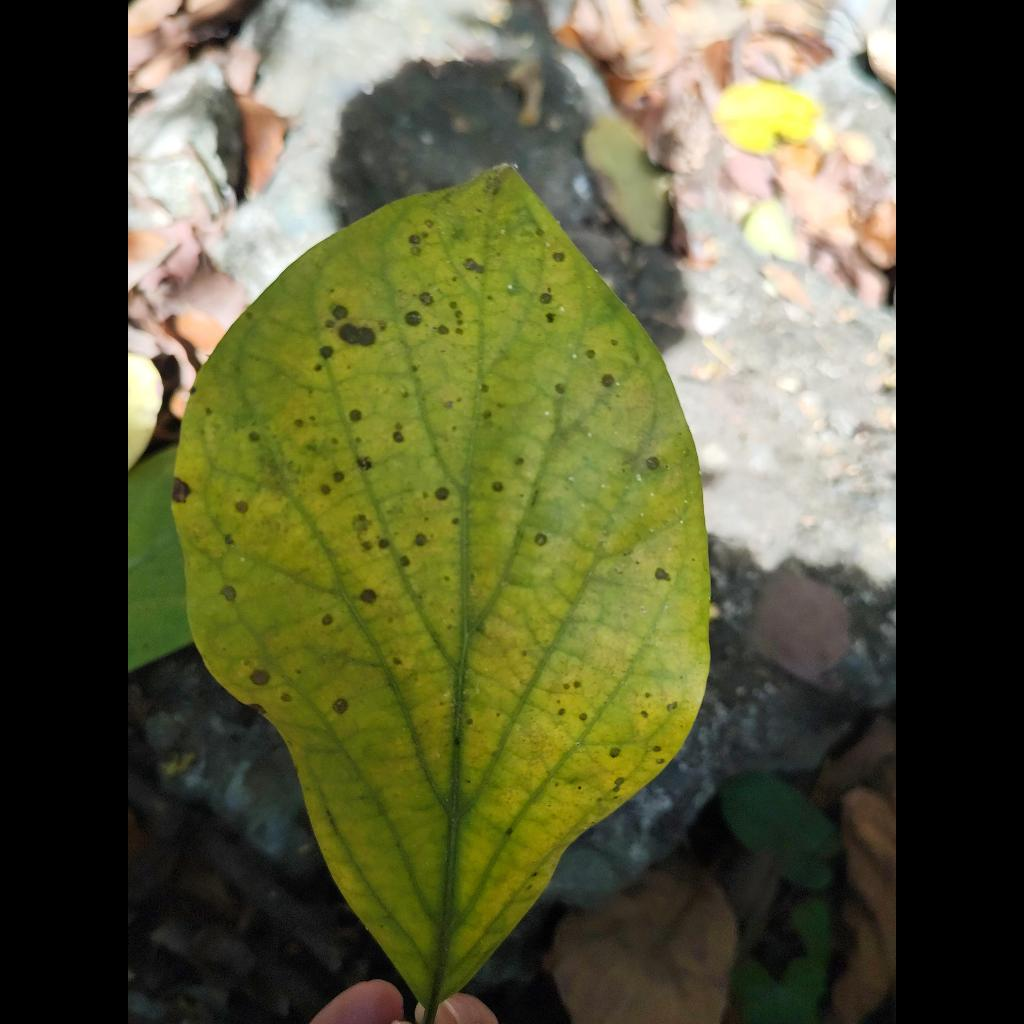nutrient_deficiency: (174, 166, 709, 1024)
